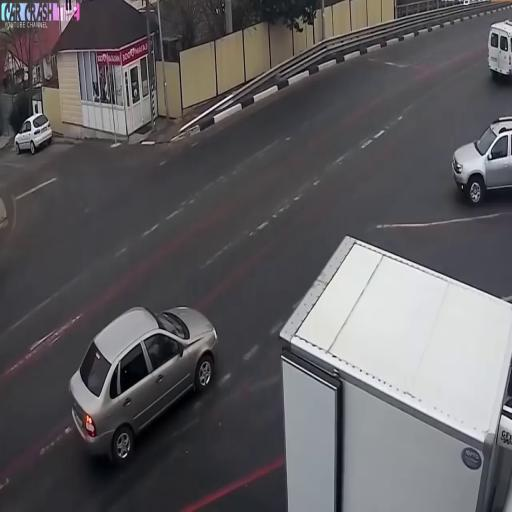小汽车: (69, 305, 217, 458), (449, 117, 512, 210), (481, 19, 512, 78), (15, 112, 56, 156)
